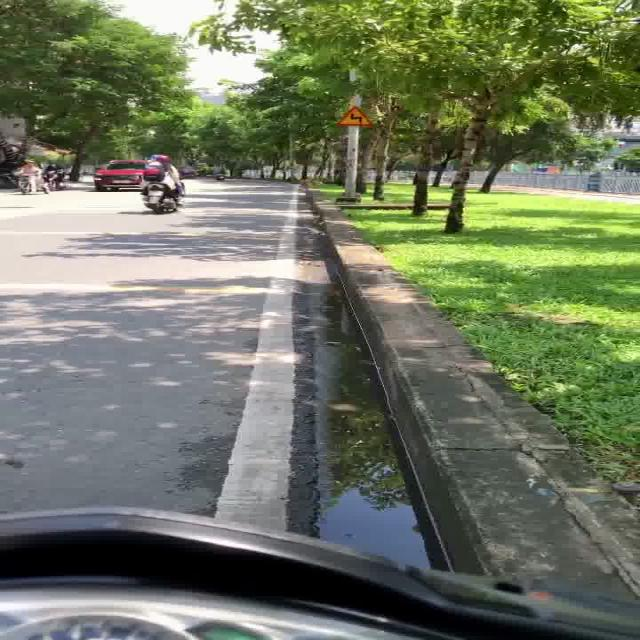Bien bao nhieu cho ngoat nguy hiem lien tiep: (332, 105, 378, 128)
